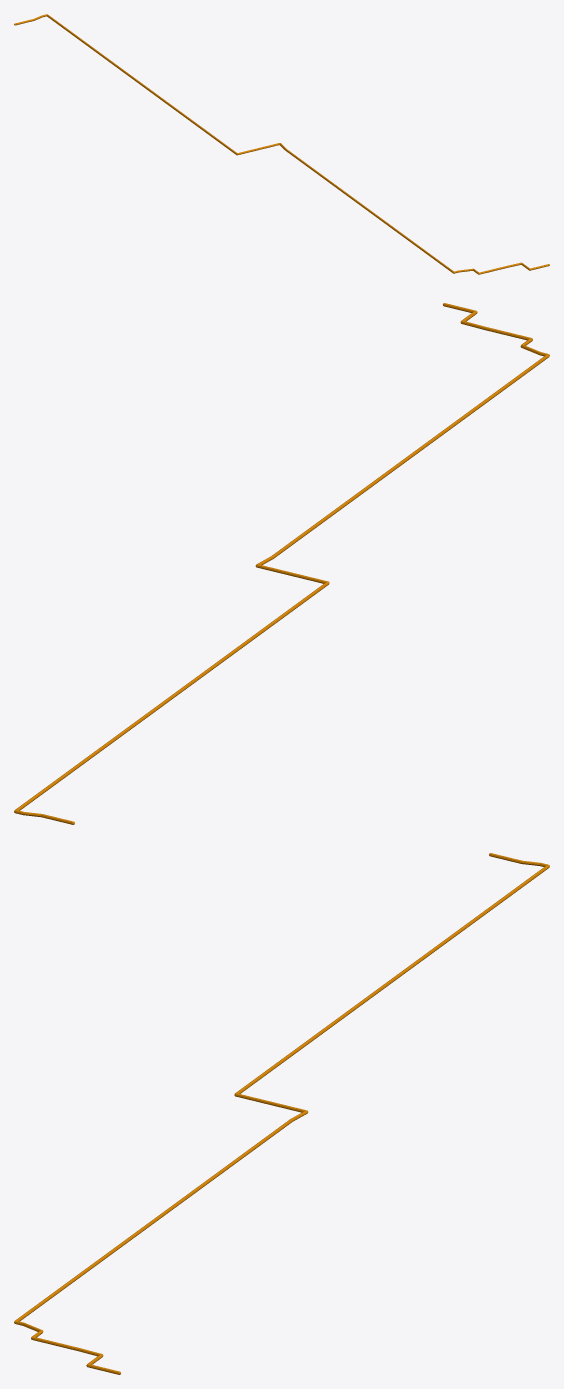
3 renders of one model, top to bottom at view 1: azimuth 30°, elevation 25°; view 2: azimuth 150°, elevation 25°; view 3: azimuth 330°, elevation 25°, orthographic. The views are drawn at different scales.
Bounding box in the file's own units: 1634 × 20 × 6945.
